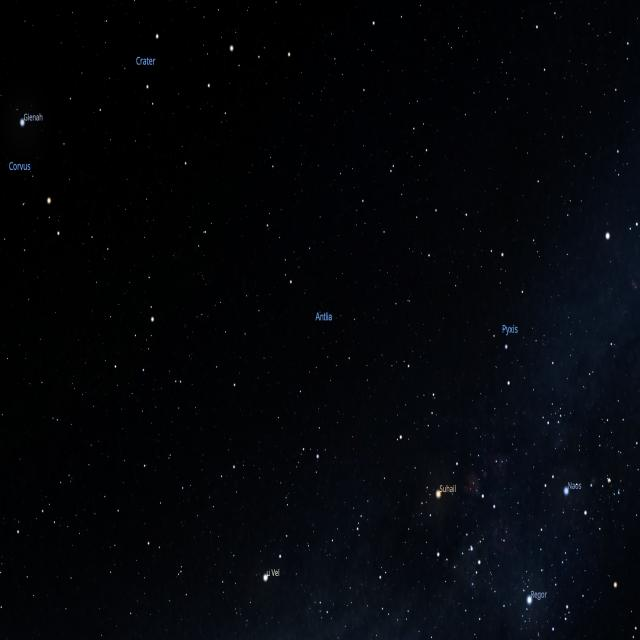Antlia: (288, 278, 350, 362)
